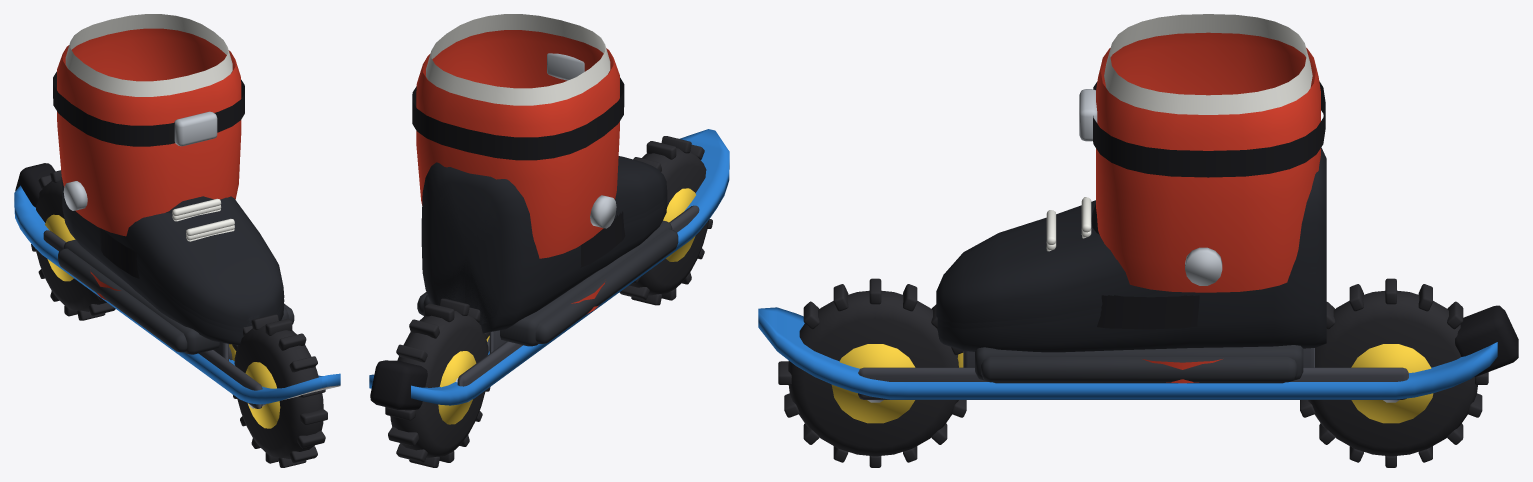
The model's file is roller.glb.
3 renders of one model, left to right at view 1: azimuth 30°, elevation 25°; view 2: azimuth 150°, elevation 25°; view 3: azimuth 270°, elevation 25°, orthographic. The views are drawn at different scales.
Parts seen in each view (by area): view 1: roller_cuff, roller_blade, roller_offroad, roller_skate, pad_knee; view 2: roller_cuff, roller_offroad, roller_blade, roller_skate; view 3: roller_offroad, roller_cuff, roller_blade, roller_skate.
Boxes of the visible parts, box(x1,y1,x2,y2) form: roller_cuff: box(53, 14, 244, 236); roller_blade: box(14, 185, 340, 404); roller_offroad: box(15, 163, 327, 467); roller_skate: box(58, 205, 294, 360); pad_knee: box(90, 196, 213, 300); roller_cuff: box(412, 14, 624, 258); roller_offroad: box(370, 136, 712, 467); roller_blade: box(369, 129, 729, 405); roller_skate: box(417, 187, 678, 353); roller_offroad: box(778, 236, 1518, 467); roller_cuff: box(1079, 14, 1325, 292); roller_blade: box(758, 147, 1497, 399); roller_skate: box(937, 229, 1326, 382).
Size of the model in its own units: 0.202 by 0.383 by 0.6487.
